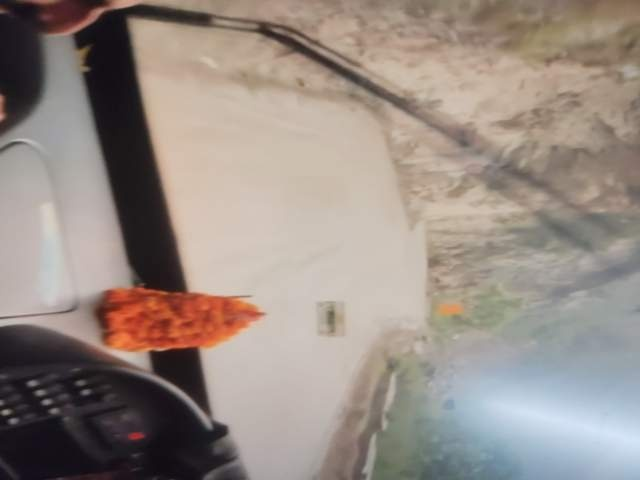pothole: (122, 311, 222, 391)
